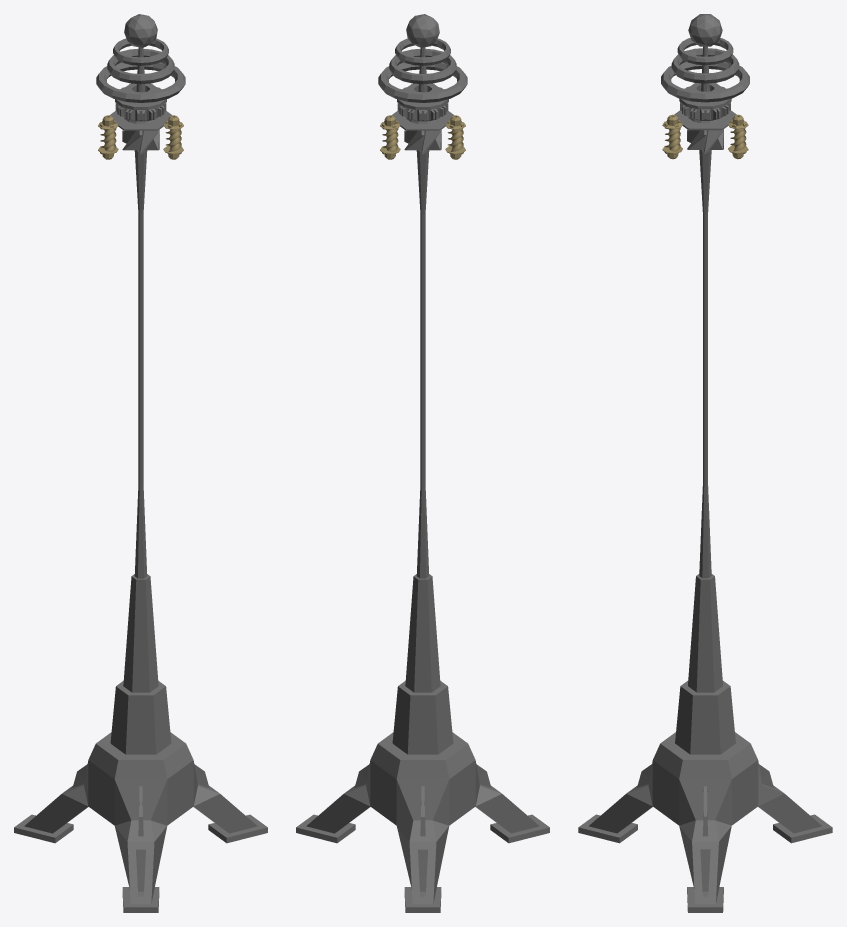
File: electric-pole.glb
3 renders of one model, left to right at view 1: azimuth 30°, elevation 25°; view 2: azimuth 150°, elevation 25°; view 3: azimuth 270°, elevation 25°, orthographic.
Parts seen in each view (by area): view 1: Cylinder.004, Cylinder.005, Cylinder.007; view 2: Cylinder.004, Cylinder.007, Cylinder.006; view 3: Cylinder.004, Cylinder.006, Cylinder.005.
Boxes of the visible parts, x1,y1,x2,y2 form: Cylinder.004: (14, 14, 267, 912); Cylinder.005: (163, 115, 183, 159); Cylinder.007: (98, 115, 118, 159); Cylinder.004: (296, 14, 549, 912); Cylinder.007: (445, 115, 465, 159); Cylinder.006: (380, 115, 400, 159); Cylinder.004: (578, 14, 832, 912); Cylinder.006: (728, 114, 748, 159); Cylinder.005: (662, 114, 682, 159).
Bounding box in the file's own units: 8.15 × 34.36 × 9.41.
